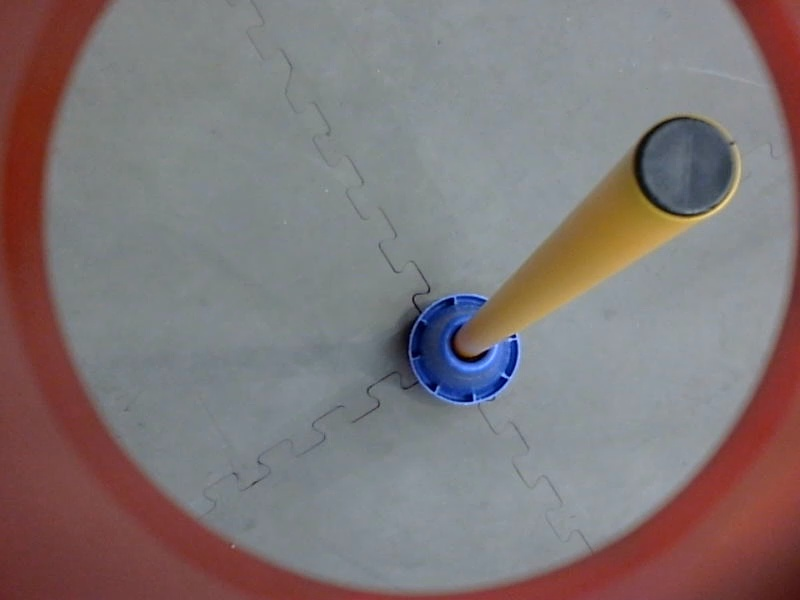tip: (627, 106, 746, 230)
